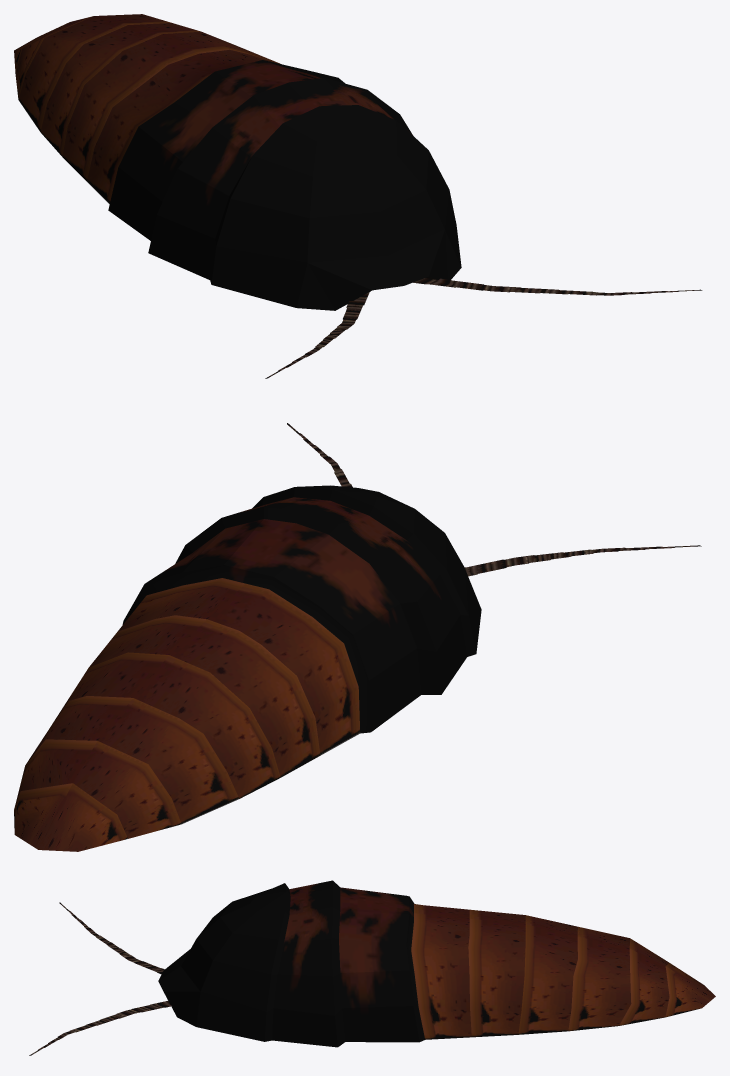
The model's file is cockroach.dae.
3 views of the same model, one above another, from view 1: azimuth 30°, elevation 25°; view 2: azimuth 150°, elevation 25°; view 3: azimuth 270°, elevation 25° (orthographic). The views are drawn at different scales.
Visible parts, largest first — view 1: pSphere1, polySurface1; view 2: pSphere1, polySurface1; view 3: pSphere1, polySurface1.
Boxes of the visible parts, box(x1,y1,x2,y2) form: pSphere1: box(14, 14, 461, 310); polySurface1: box(265, 278, 702, 378); pSphere1: box(14, 485, 481, 851); polySurface1: box(287, 423, 701, 576); pSphere1: box(158, 880, 715, 1047); polySurface1: box(29, 902, 172, 1055).
Bounding box in the file's own units: 0.2034 × 0.0604 × 0.3623.
